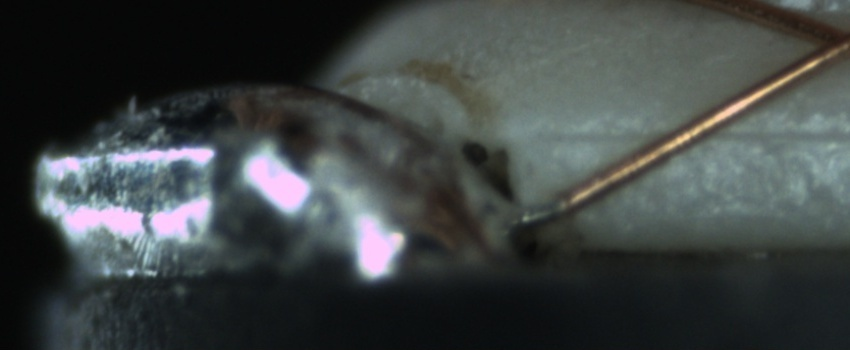CL: (781, 6, 848, 79)
DL: (542, 104, 850, 167)
TS: (512, 198, 564, 229)
